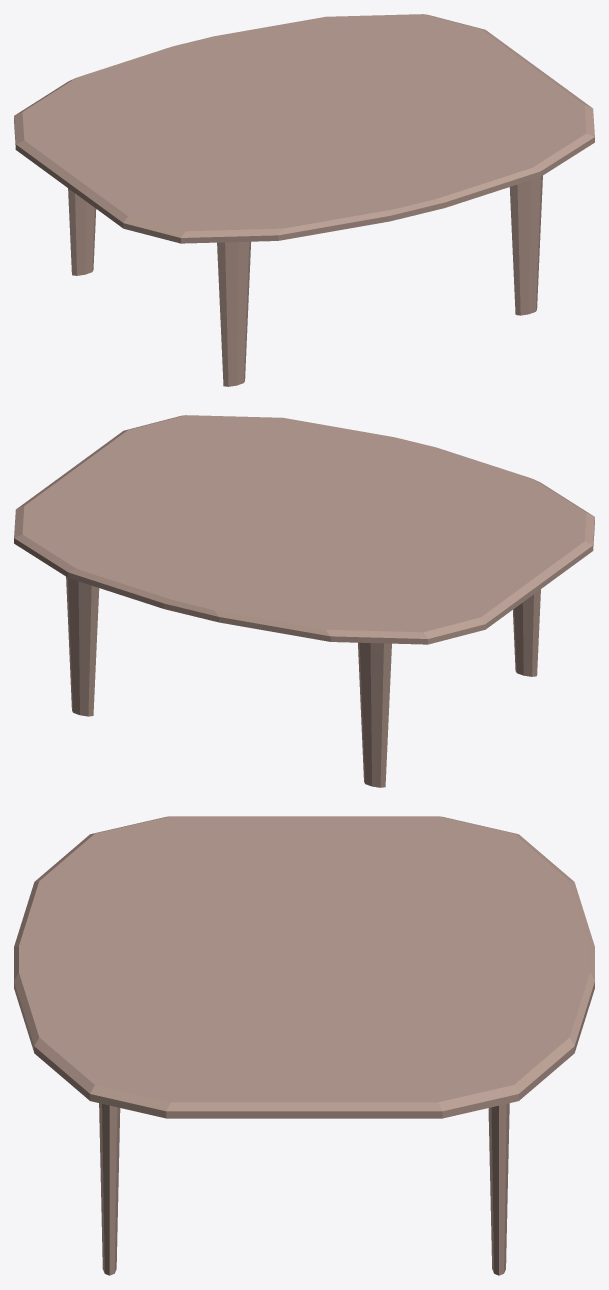
File: table03.gltf
The picture shows the model from 3 angles, top to bottom: view 1: azimuth 30°, elevation 25°; view 2: azimuth 150°, elevation 25°; view 3: azimuth 270°, elevation 25°; orthographic projection. The views are drawn at different scales.
Visible parts, largest first — view 1: Table_Large_Circular_01_Circle.006; view 2: Table_Large_Circular_01_Circle.006; view 3: Table_Large_Circular_01_Circle.006.
Boxes of the visible parts, left/top/right/bottom form: Table_Large_Circular_01_Circle.006: left=14, top=14, right=594, bottom=386; Table_Large_Circular_01_Circle.006: left=14, top=415, right=594, bottom=787; Table_Large_Circular_01_Circle.006: left=14, top=816, right=594, bottom=1275.
Size of the model in its own units: 3.36 by 1.16 by 2.8.
